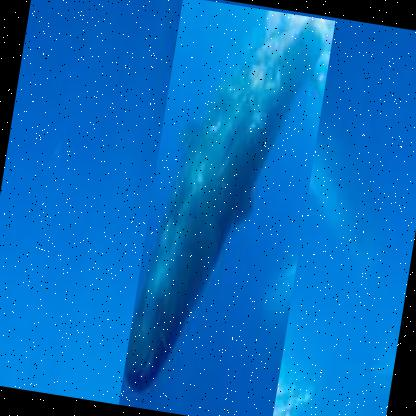sperm_whale: (118, 0, 338, 415)
